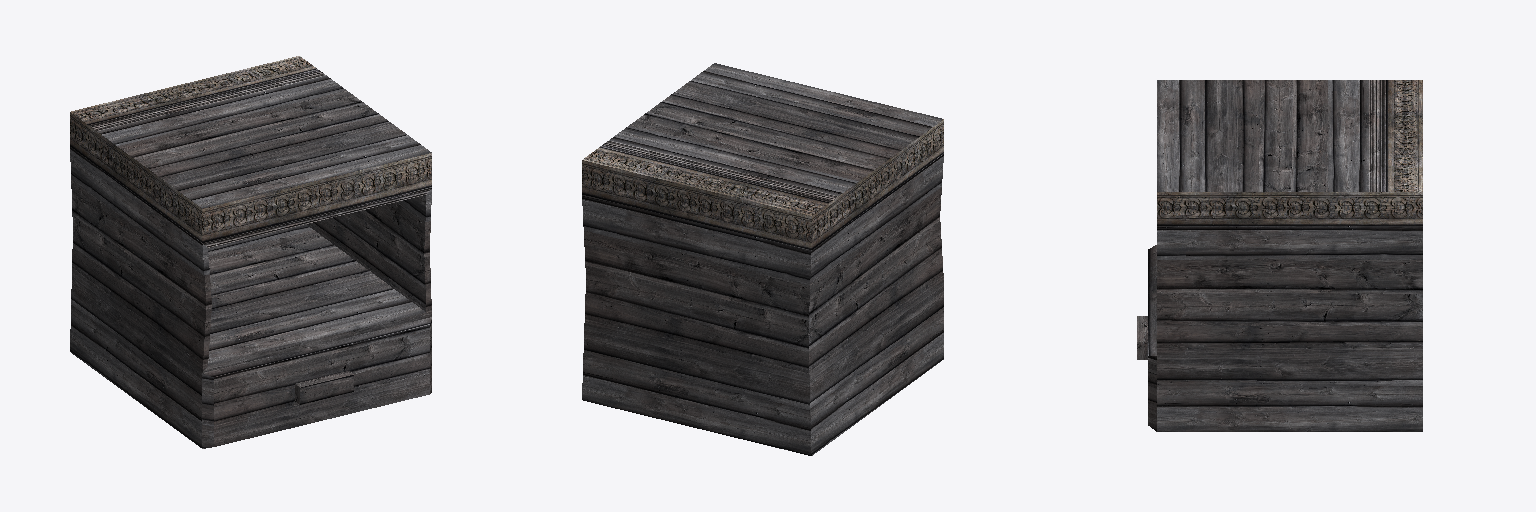
3 renders of one model, left to right at view 1: azimuth 30°, elevation 25°; view 2: azimuth 150°, elevation 25°; view 3: azimuth 270°, elevation 25°, orthographic.
Visible parts, largest first — view 1: Default_Layer; view 2: Default_Layer; view 3: Default_Layer.
Part boxes in pixels (left/top/right/bottom): Default_Layer: left=70, top=56, right=431, bottom=448; Default_Layer: left=582, top=63, right=943, bottom=455; Default_Layer: left=1137, top=80, right=1422, bottom=431.
Bounding box in the file's own units: 1.08 × 1.08 × 1.16.
Materials: 1 (1 with a texture image).